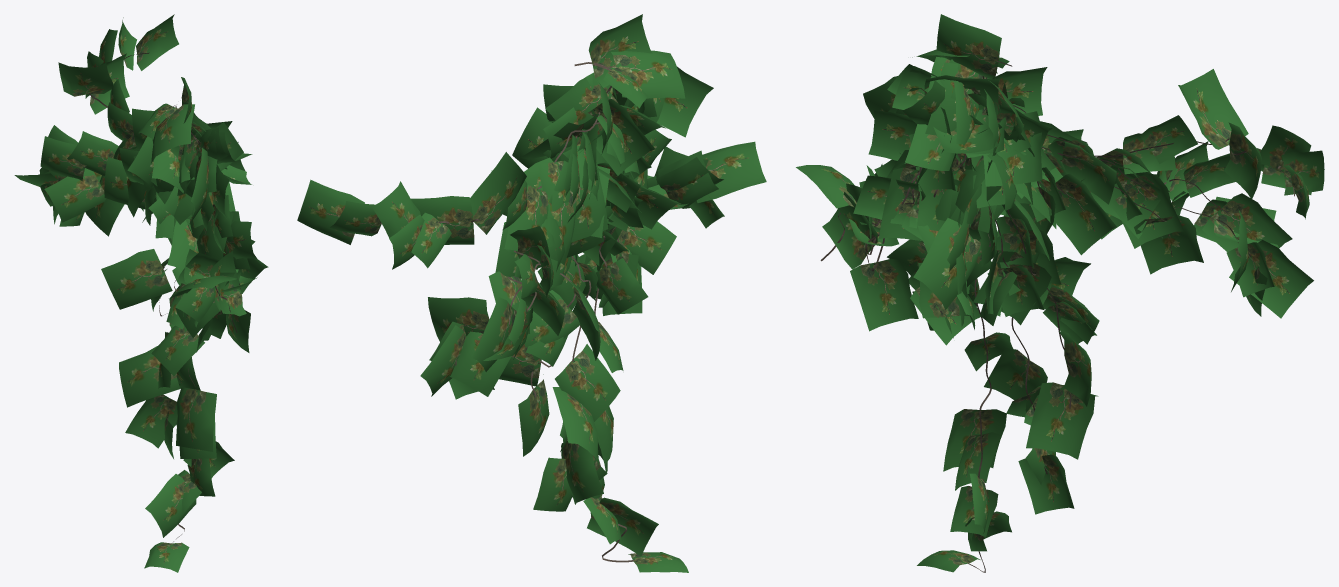
The model's file is SM_Climber_02a.fbx.
3 views of the same model, side by side, from view 1: azimuth 30°, elevation 25°; view 2: azimuth 150°, elevation 25°; view 3: azimuth 270°, elevation 25° (orthographic). The views are drawn at different scales.
Visible parts, largest first — view 1: SM_Climber_02a_LOD0; view 2: SM_Climber_02a_LOD0; view 3: SM_Climber_02a_LOD0.
Boxes of the visible parts, x1,y1,x2,y2 form: SM_Climber_02a_LOD0: (14, 14, 268, 572); SM_Climber_02a_LOD0: (297, 14, 766, 572); SM_Climber_02a_LOD0: (796, 14, 1324, 572).
Size of the model in its own units: 608 by 1123 by 1319.
